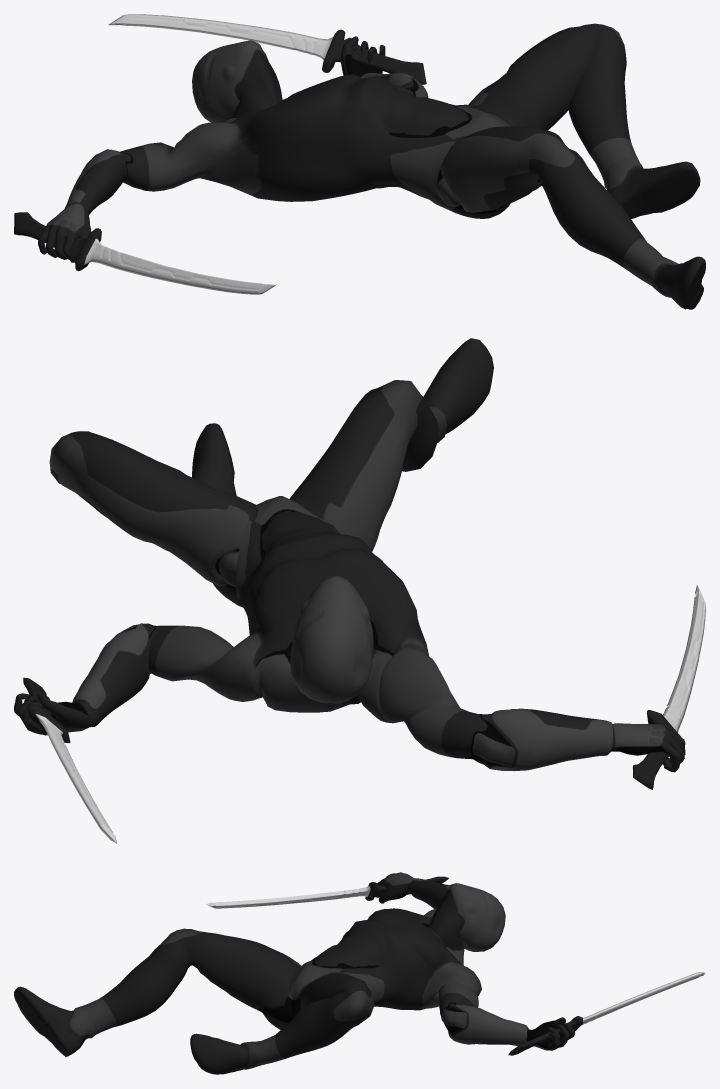
3 renders of one model, top to bottom at view 1: azimuth 30°, elevation 25°; view 2: azimuth 150°, elevation 25°; view 3: azimuth 270°, elevation 25°, orthographic. The views are drawn at different scales.
Parts seen in each view (by area): view 1: Cyborg_Ninja_Killer, Sword_l, Sword_l001; view 2: Cyborg_Ninja_Killer, Sword_l001, Sword_l; view 3: Cyborg_Ninja_Killer, Sword_l001, Sword_l.
Part boxes in pixels (<box>): Cyborg_Ninja_Killer: <box>38,23,705,309</box>; Sword_l: <box>108,14,426,84</box>; Sword_l001: <box>14,212,276,294</box>; Cyborg_Ninja_Killer: <box>14,338,685,772</box>; Sword_l001: <box>632,585,705,789</box>; Sword_l: <box>23,677,116,843</box>; Cyborg_Ninja_Killer: <box>14,872,575,1074</box>; Sword_l001: <box>206,876,448,908</box>; Sword_l: <box>508,972,705,1055</box>.
Size of the model in its own units: 168 by 39.17 by 236.
Materials: 2 (2 with a texture image).
